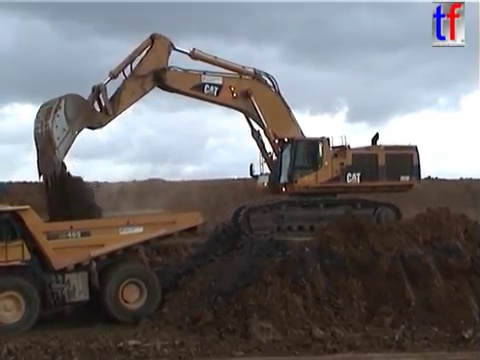truck: (31, 30, 424, 240), (1, 202, 207, 336)
